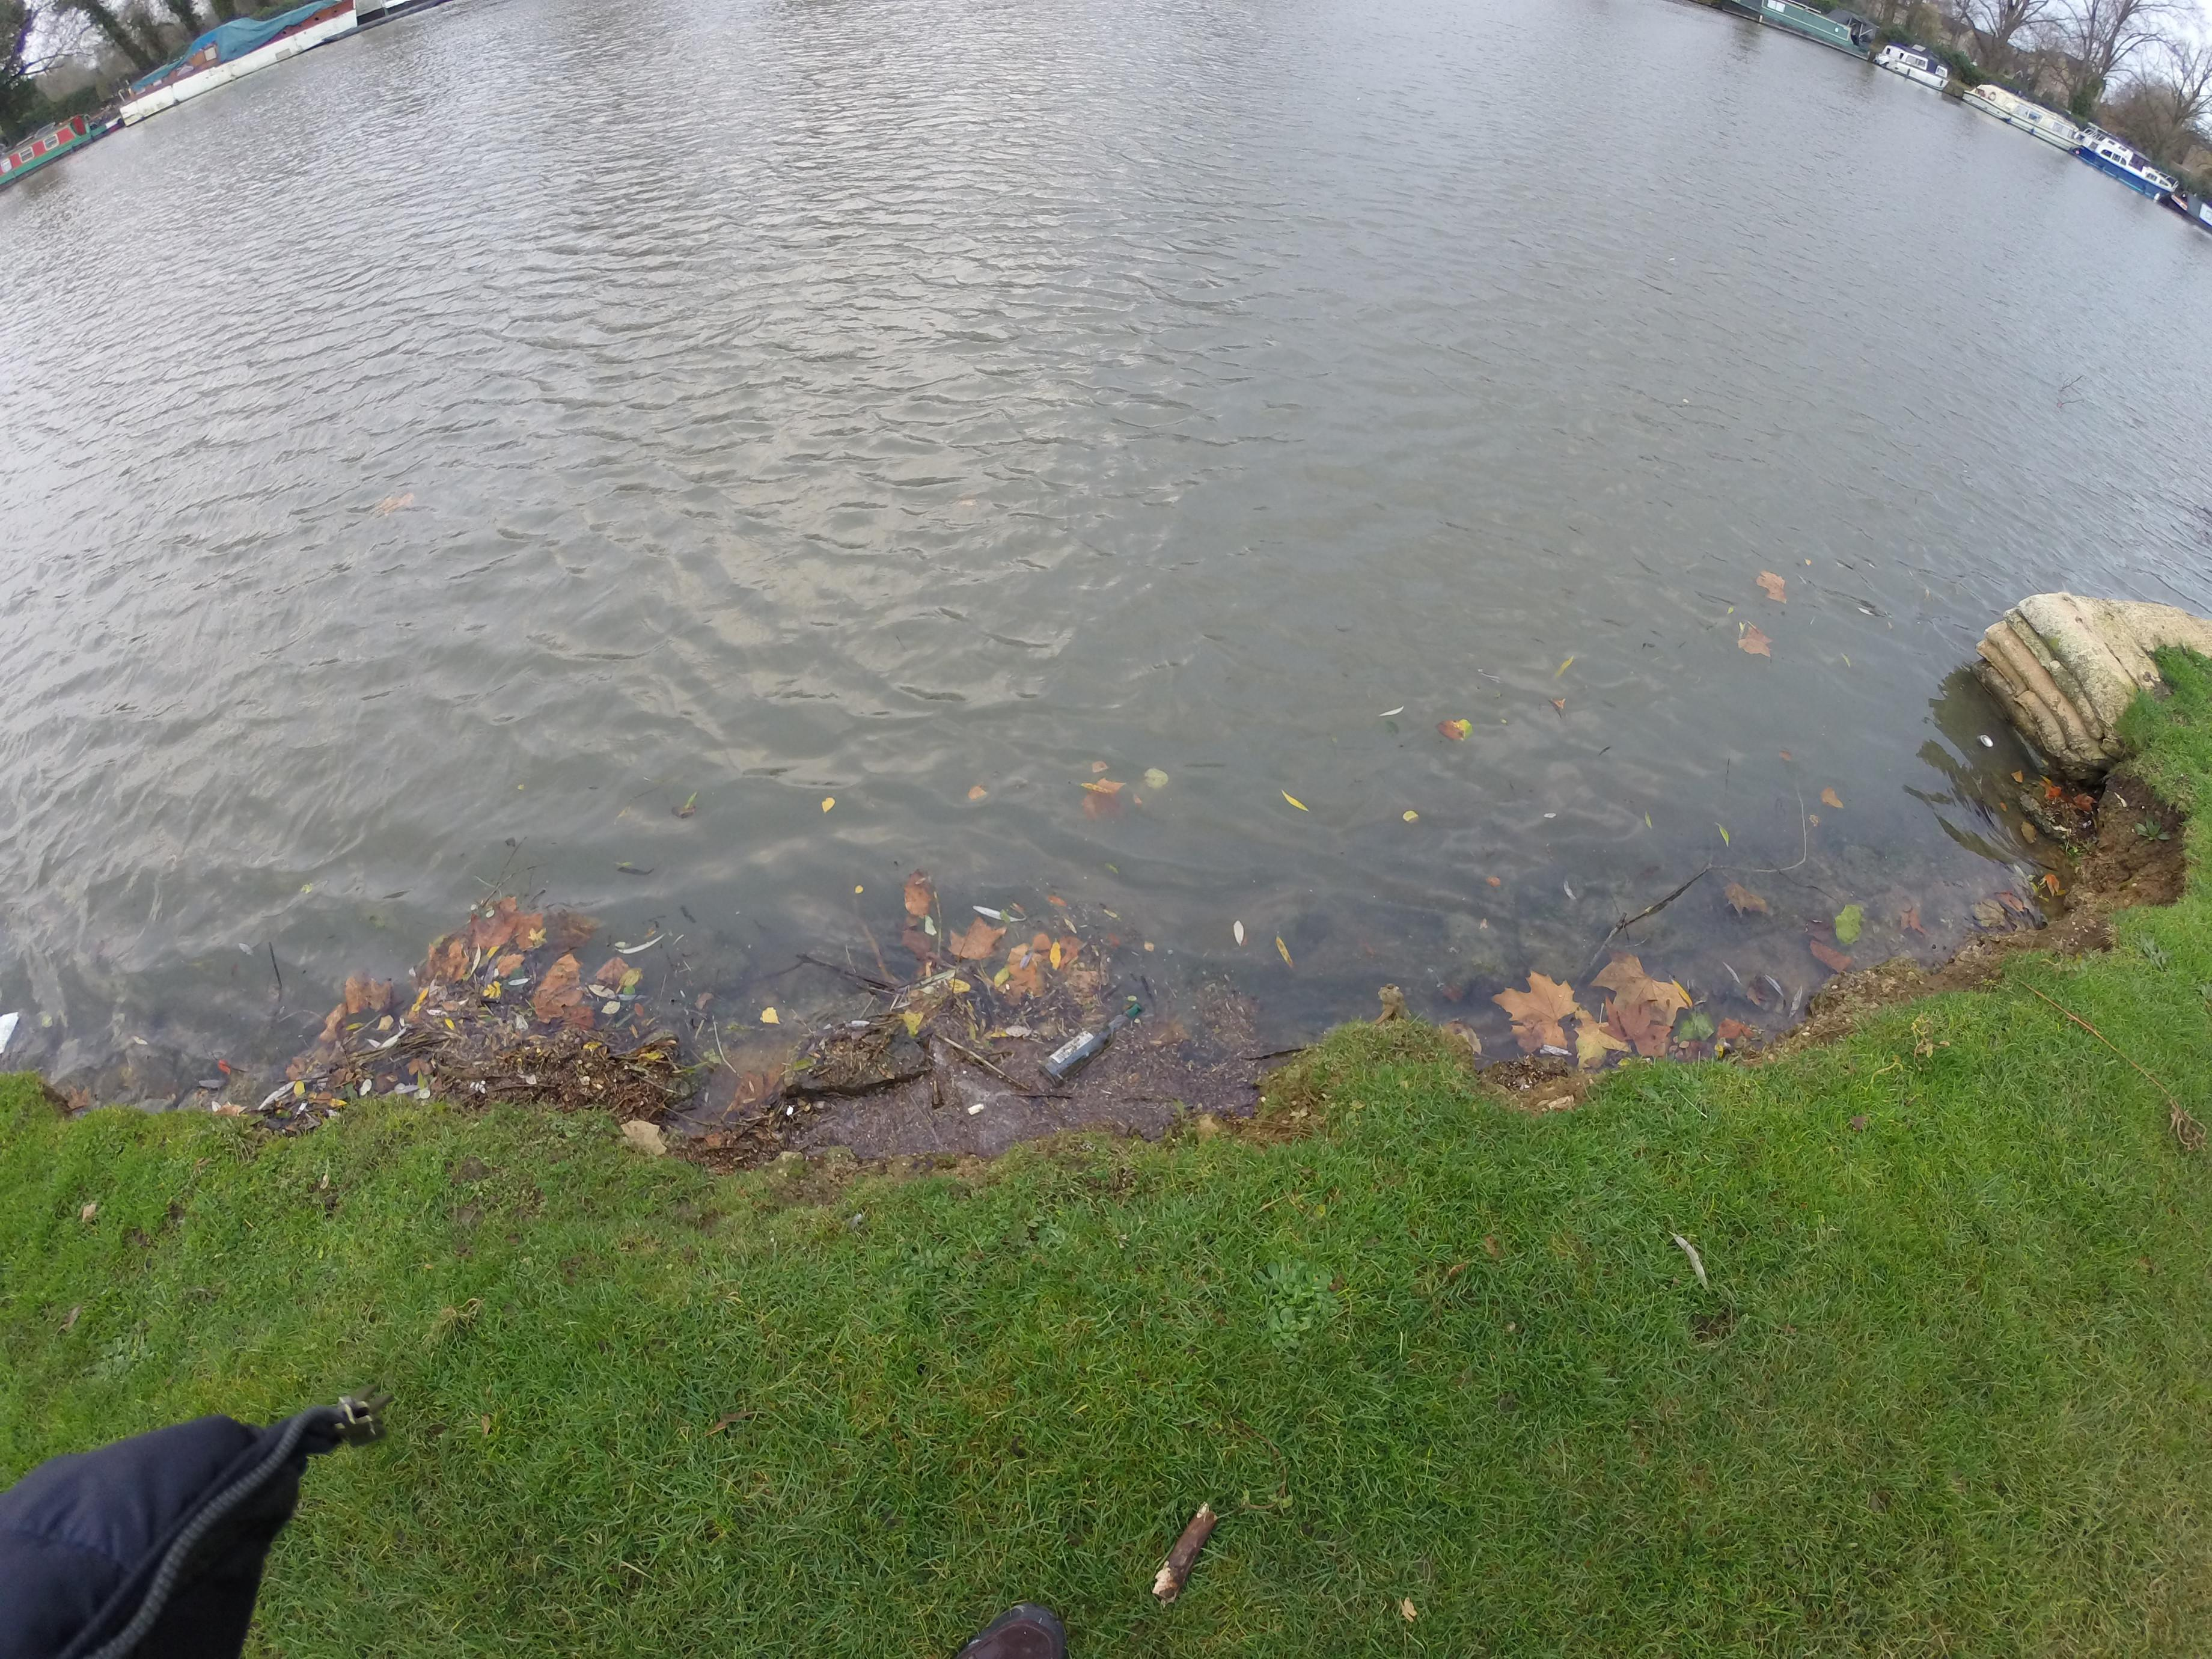Trash: (1036, 1002, 1146, 1087)
